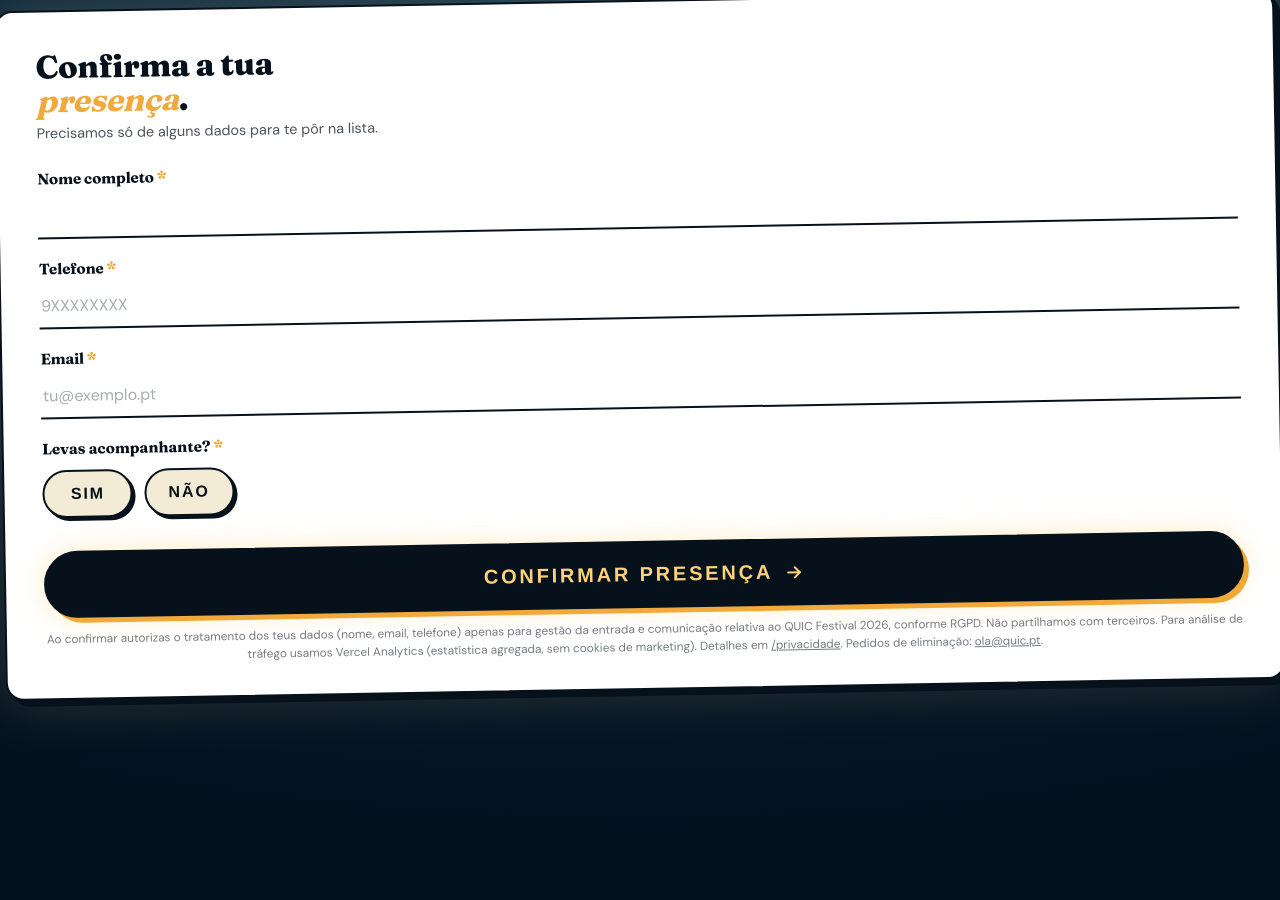
Test: RsvpForm › API error sem JSON → fallback genérico
Type "Maria Silva" into the field labelled "Nome completo *". click: (638, 207)
box: x1=38 y1=174 x2=1238 y2=239
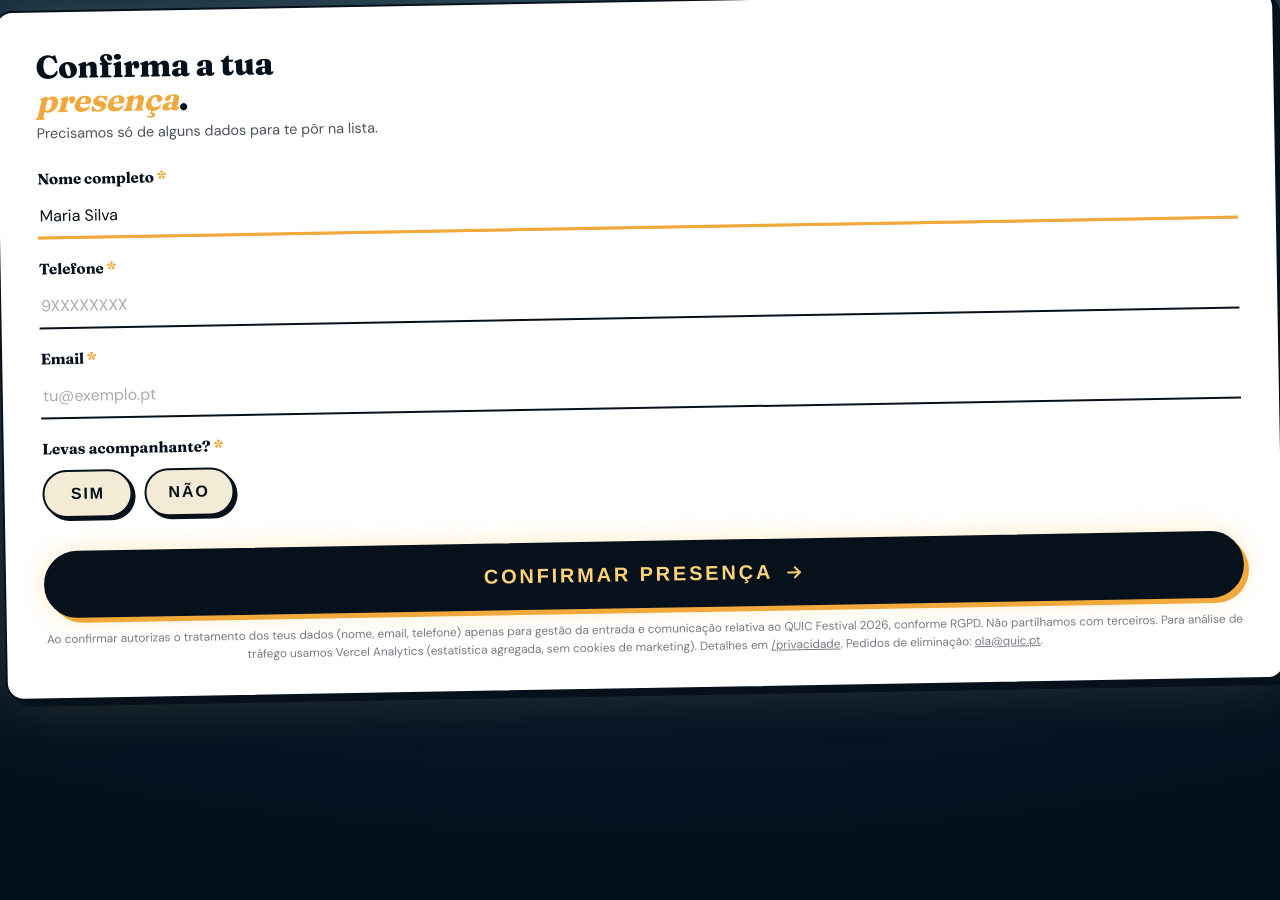
Type "912345678" into the field with id "tel". click: (639, 297)
box: x1=39 y1=264 x2=1239 y2=329
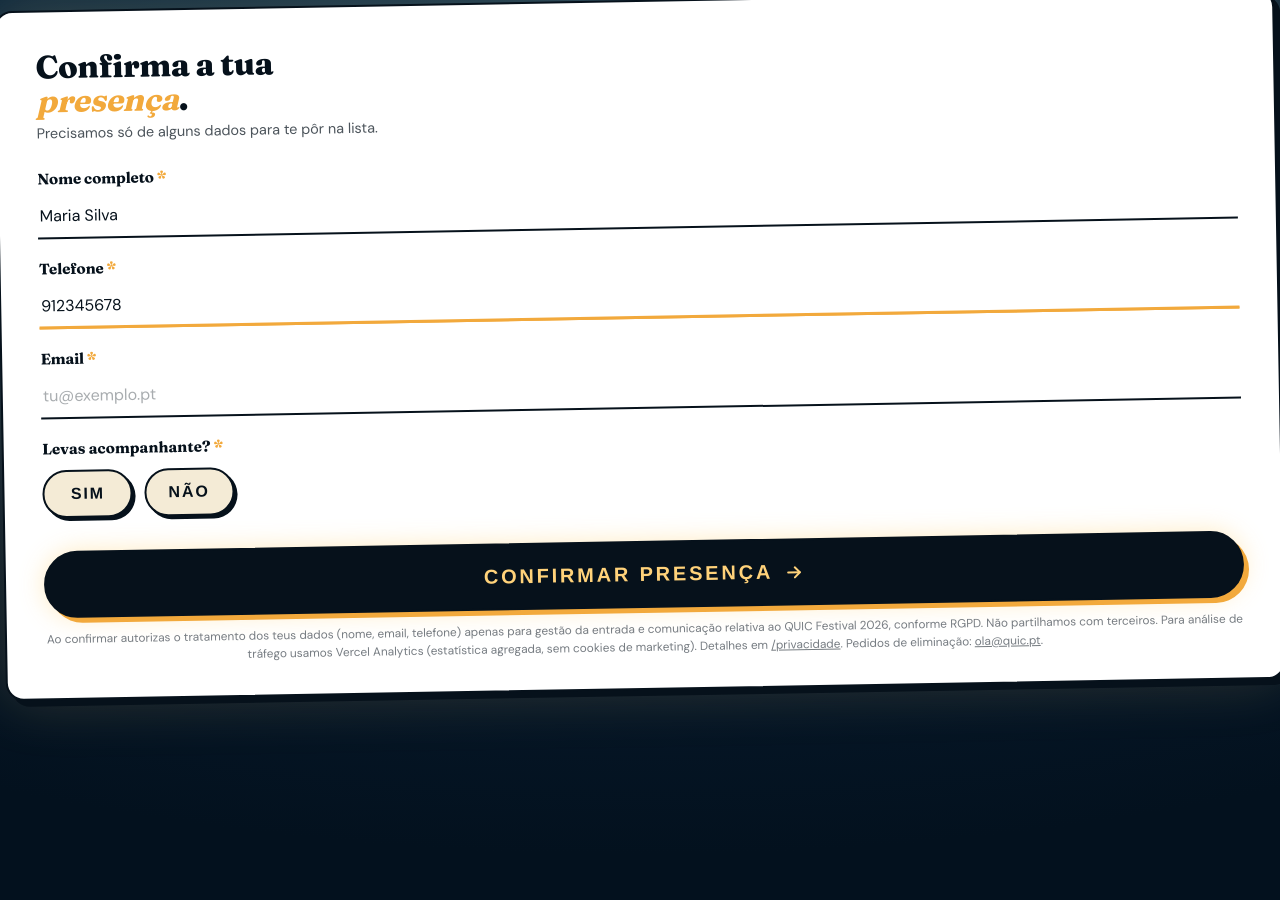
Type "maria@test.pt" into the field with id "email". click: (641, 387)
box: x1=41 y1=354 x2=1241 y2=419
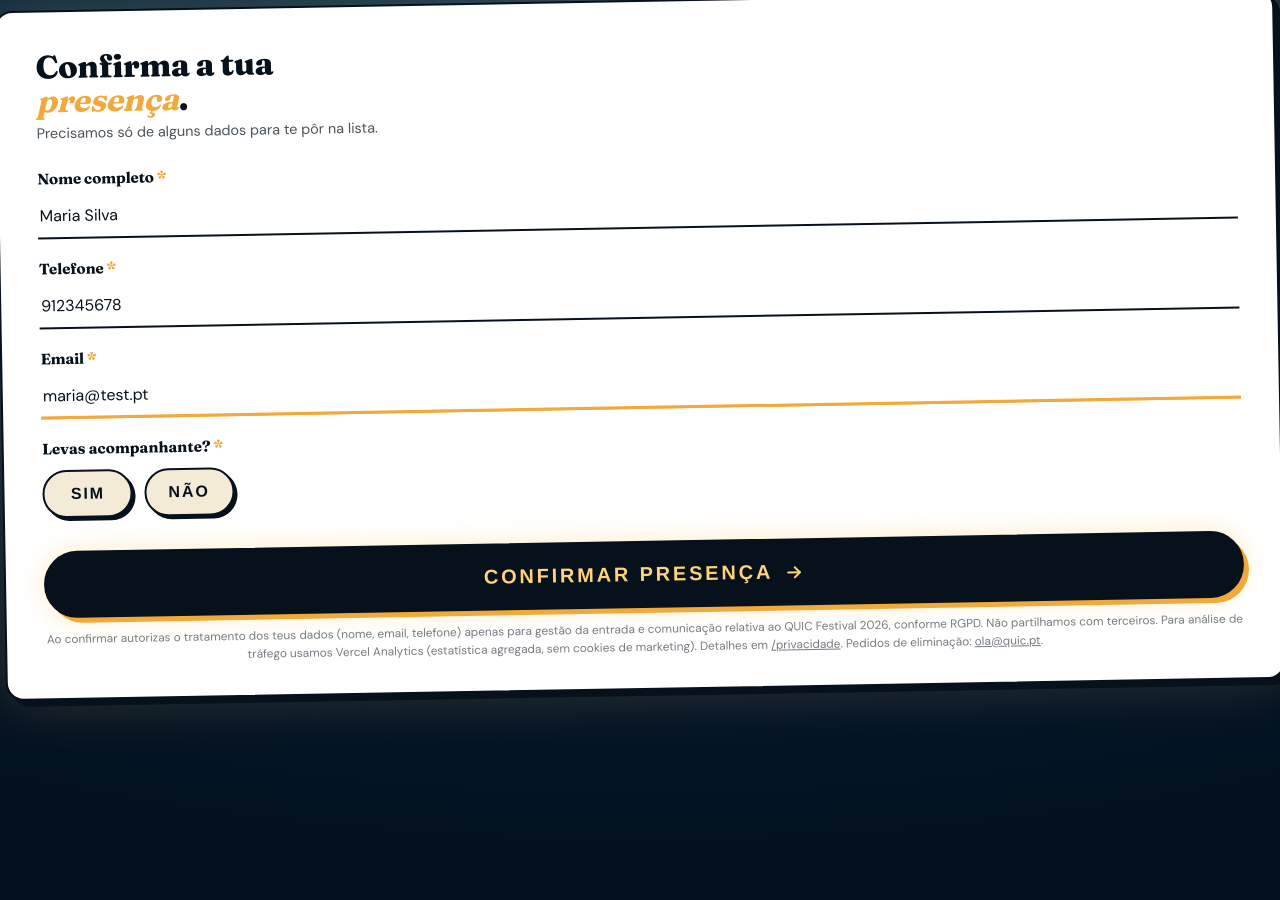
Click the radio button labelled "NÃO". click: (189, 492)
box: x1=144 y1=467 x2=234 y2=516
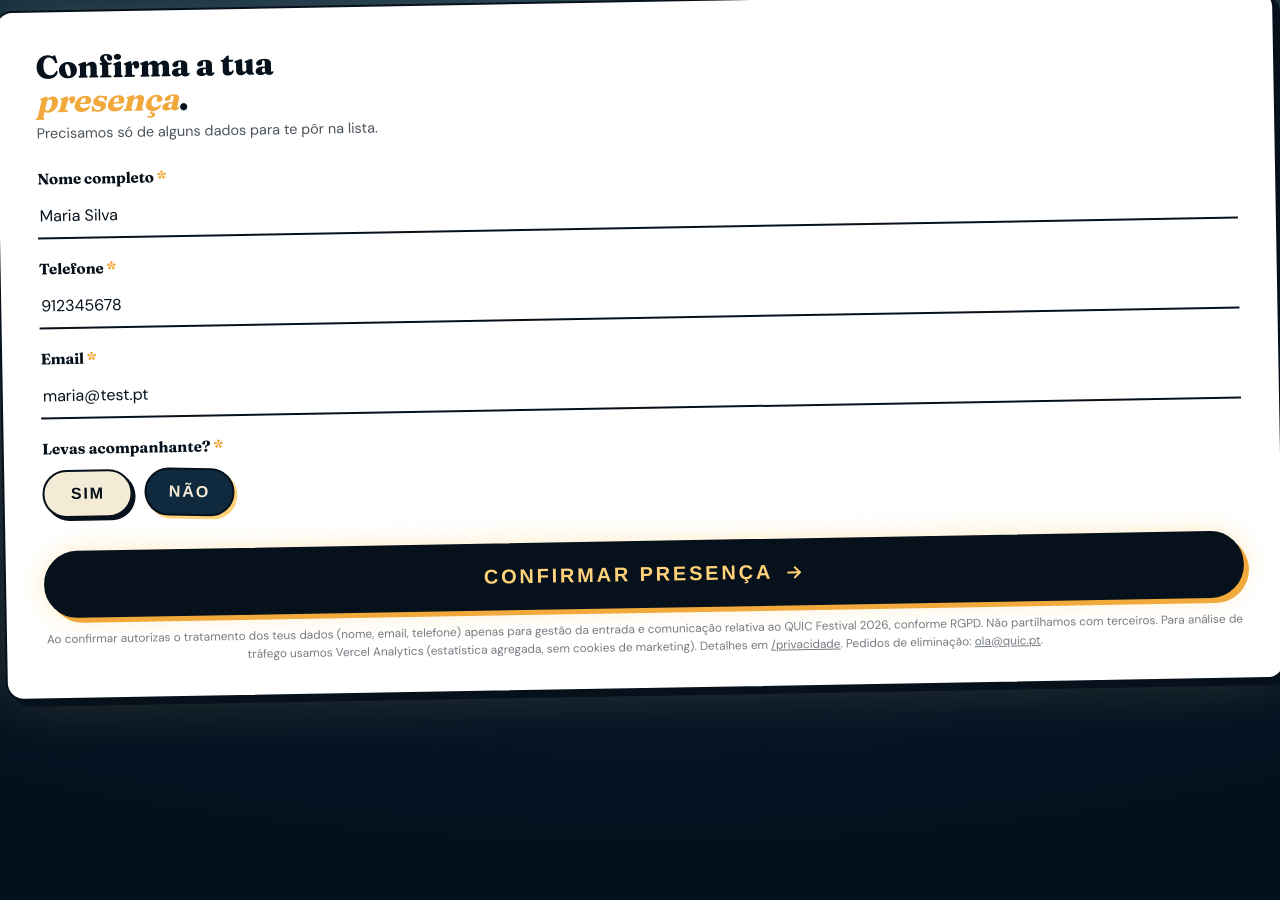
Click the button "CONFIRMAR PRESENÇA". click: (644, 575)
box: x1=44 y1=531 x2=1244 y2=618
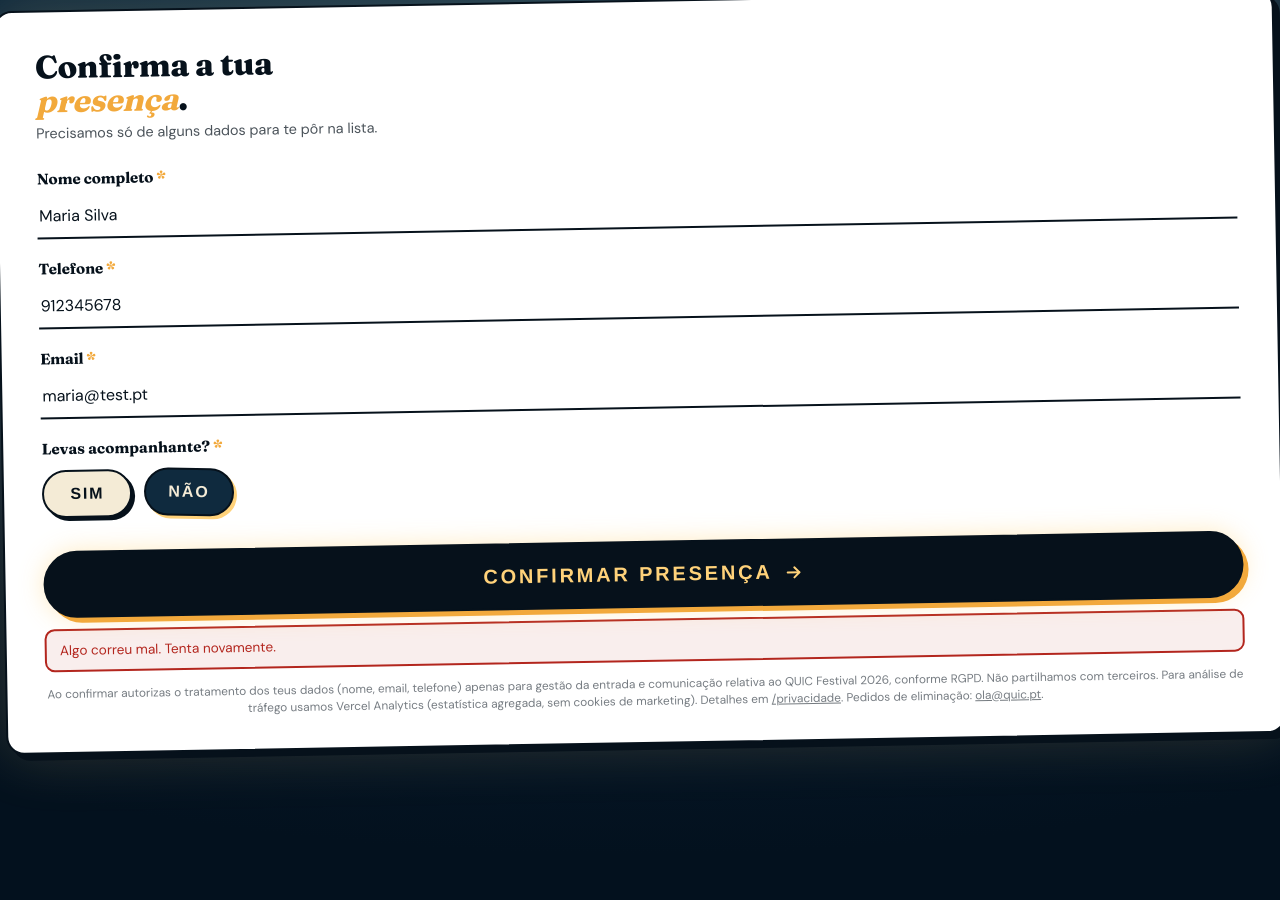
Now the message shows "correu mal", box x1=60 y1=638 x2=276 y2=659
